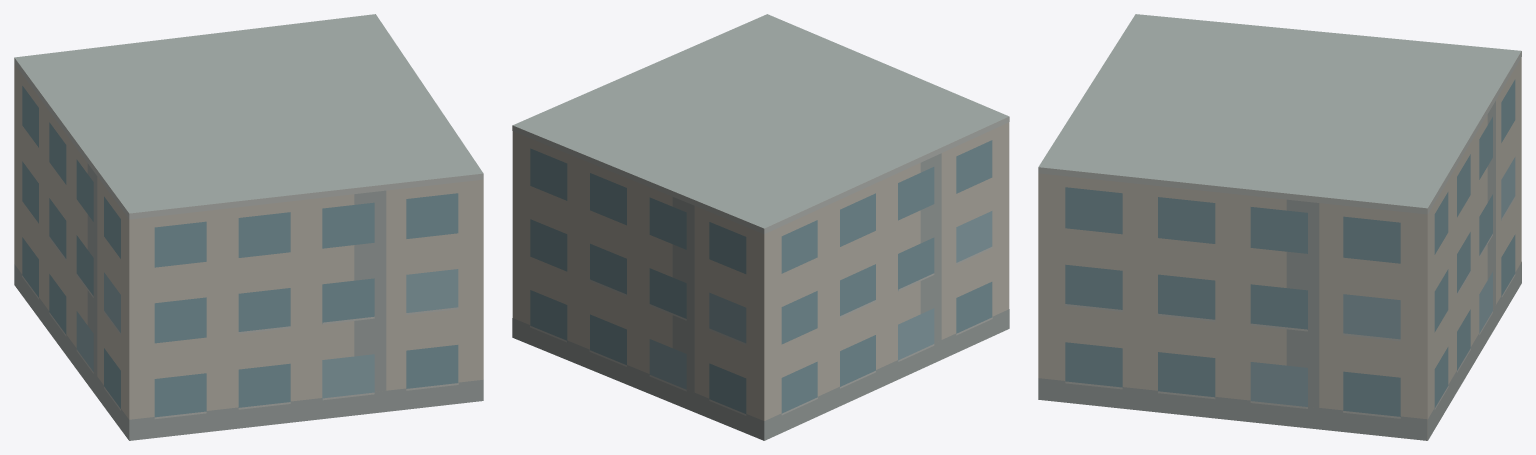
Rendered from survey-upis-32646377.glb.
3 renders of one model, left to right at view 1: azimuth 30°, elevation 25°; view 2: azimuth 150°, elevation 25°; view 3: azimuth 270°, elevation 25°, orthographic. The views are drawn at different scales.
Parts seen in each view (by area): view 1: survey-upis-32646377.tmp; view 2: survey-upis-32646377.tmp; view 3: survey-upis-32646377.tmp.
Boxes of the visible parts, <box> form: survey-upis-32646377.tmp: <box>14,14,483,440</box>; survey-upis-32646377.tmp: <box>512,14,1009,440</box>; survey-upis-32646377.tmp: <box>1038,14,1521,440</box>.
Bounding box in the file's own units: 16.41 × 9.15 × 17.25.
